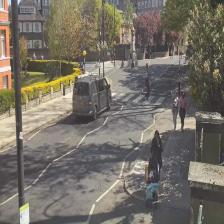person: (149, 129, 162, 191)
